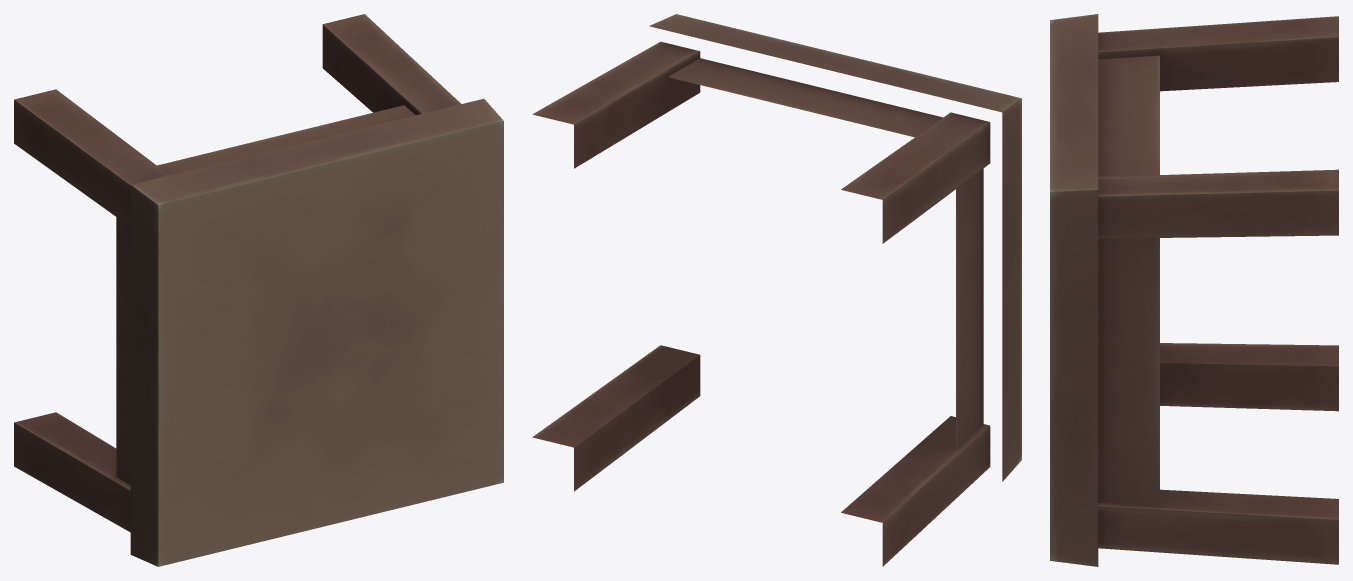
File: table_01.glb
3 views of the same model, side by side, from view 1: azimuth 30°, elevation 25°; view 2: azimuth 150°, elevation 25°; view 3: azimuth 270°, elevation 25° (orthographic).
Visible parts, largest first — view 1: interior.table_01-Mesh[0]; view 2: interior.table_01-Mesh[0]; view 3: interior.table_01-Mesh[0].
Part boxes in pixels (<box>): interior.table_01-Mesh[0]: <box>14,14,503,566</box>; interior.table_01-Mesh[0]: <box>532,14,1021,566</box>; interior.table_01-Mesh[0]: <box>1050,14,1338,566</box>.
Bounding box in the file's own units: 1.21 × 1.21 × 0.84.
Materials: 1 (1 with a texture image).
